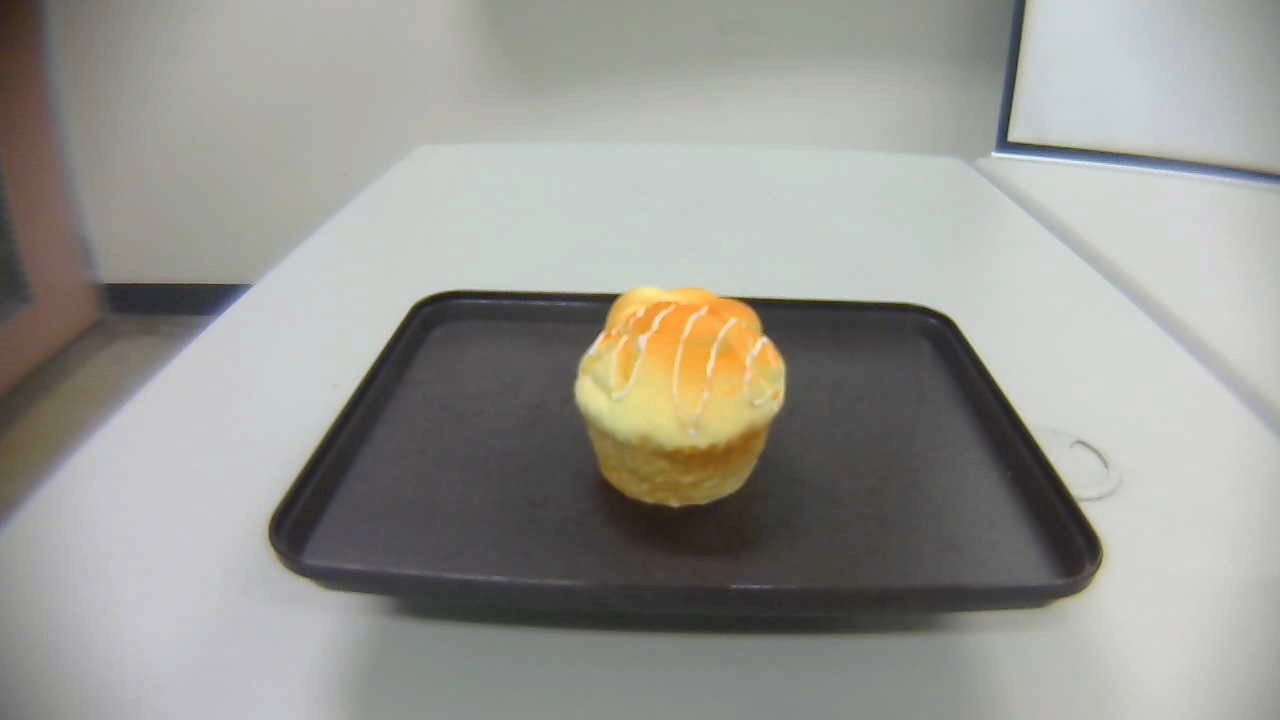cupcake: (574, 306, 788, 506)
twist bread: (606, 285, 763, 391)
